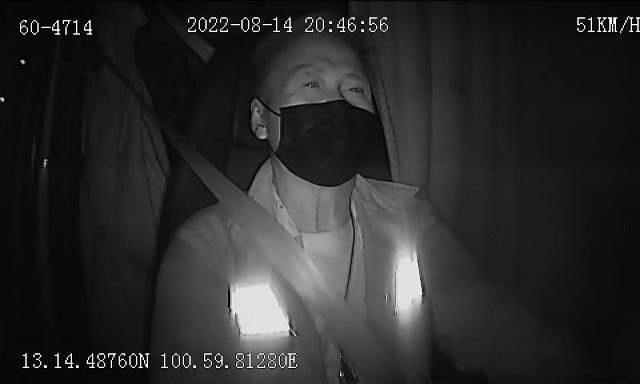SafeDriving: (338, 76, 372, 97), (296, 72, 324, 92)
Seatbelt: (144, 88, 382, 356)
